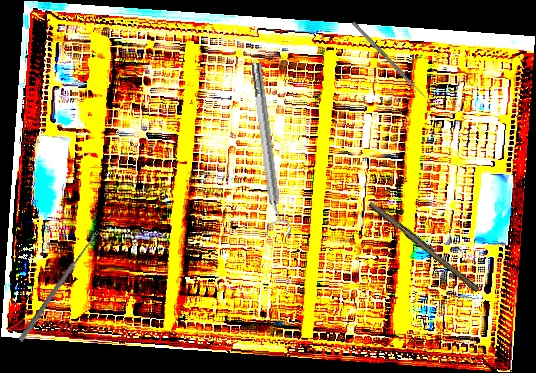Fixation Ring: (243, 60, 293, 240)
Pusher: (351, 21, 431, 103)
Scalpel Handle: (366, 199, 483, 293)
Surgical Spoon: (18, 229, 100, 343)
